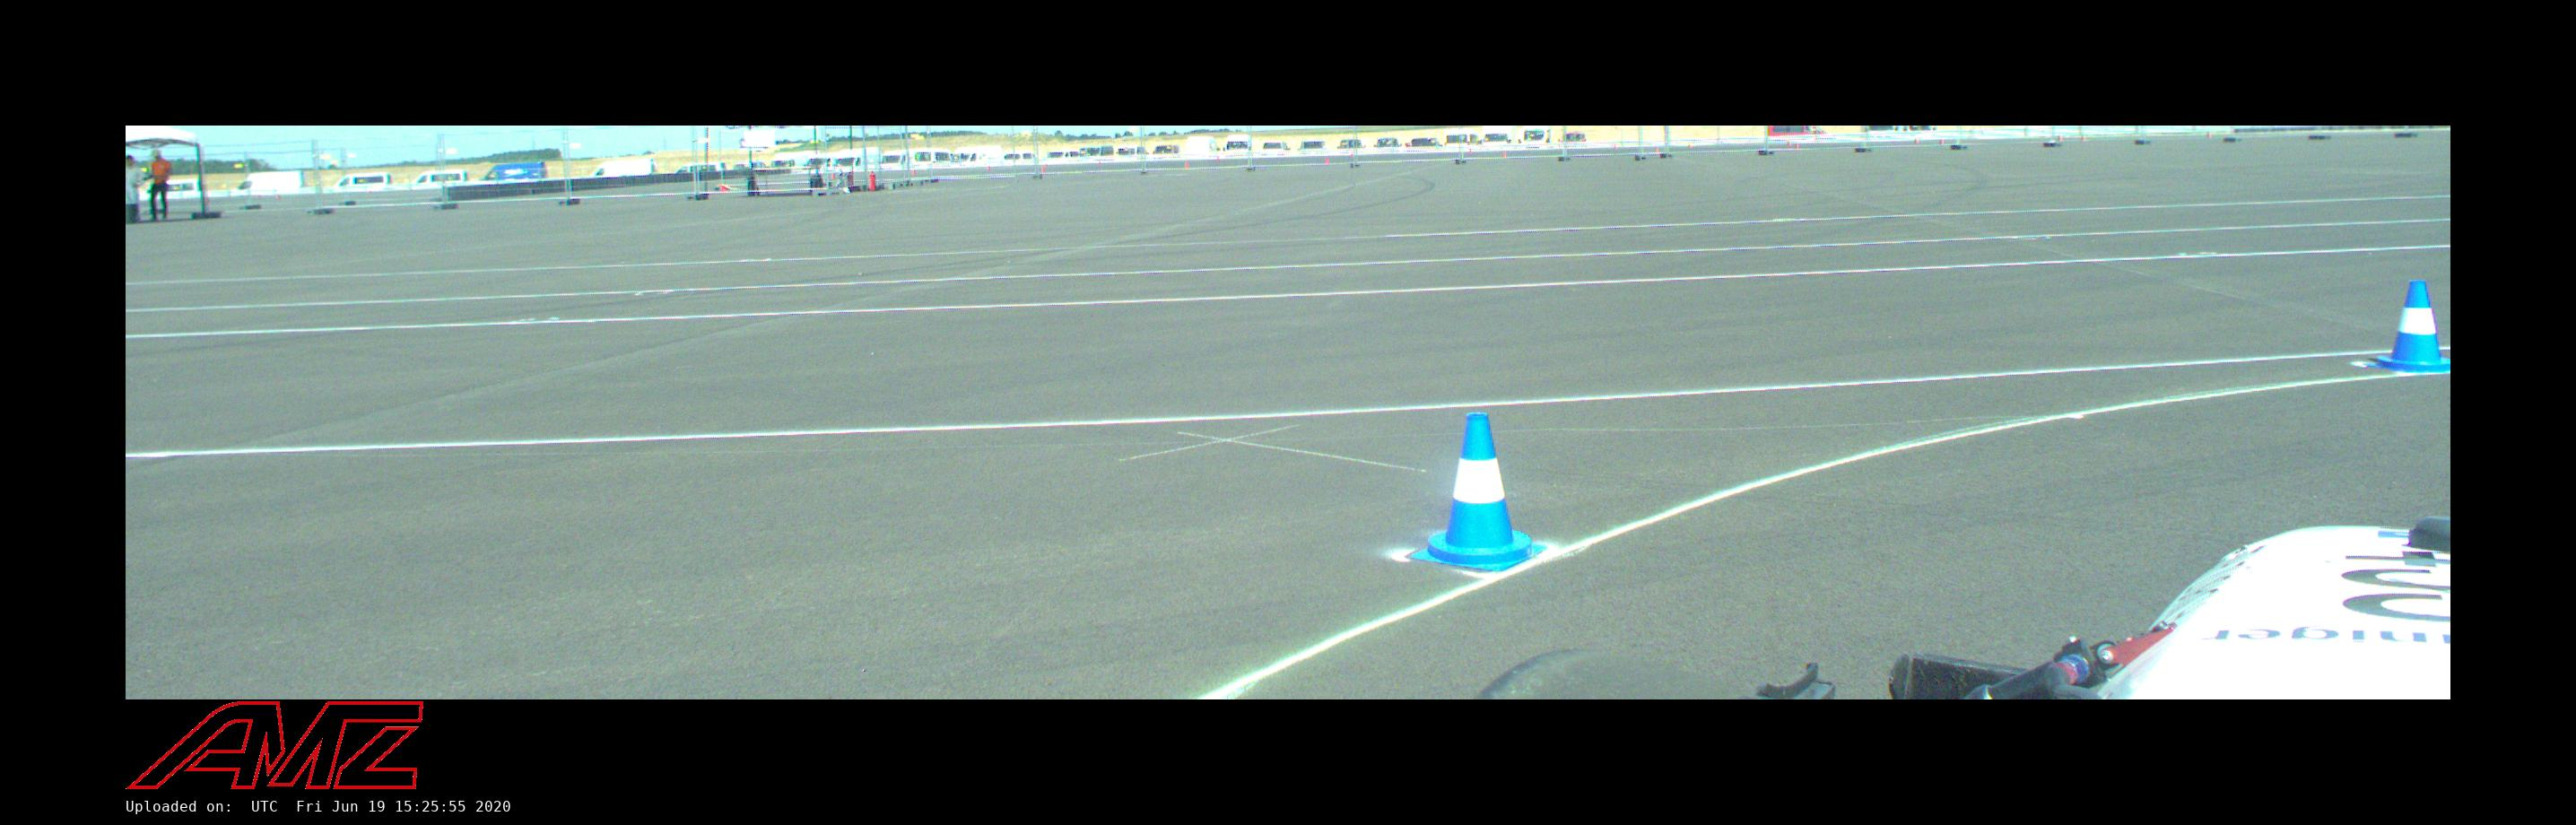blue_cone: (1410, 414, 1546, 572), (2366, 283, 2449, 370)
